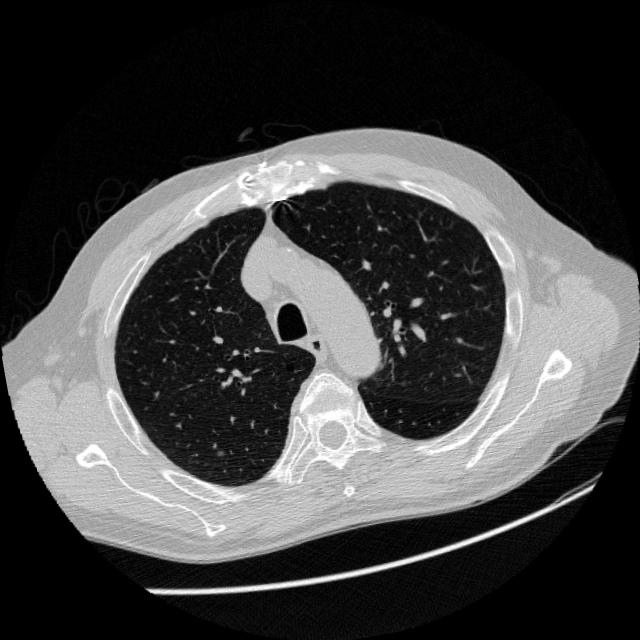nodule: (208, 441, 230, 464)
